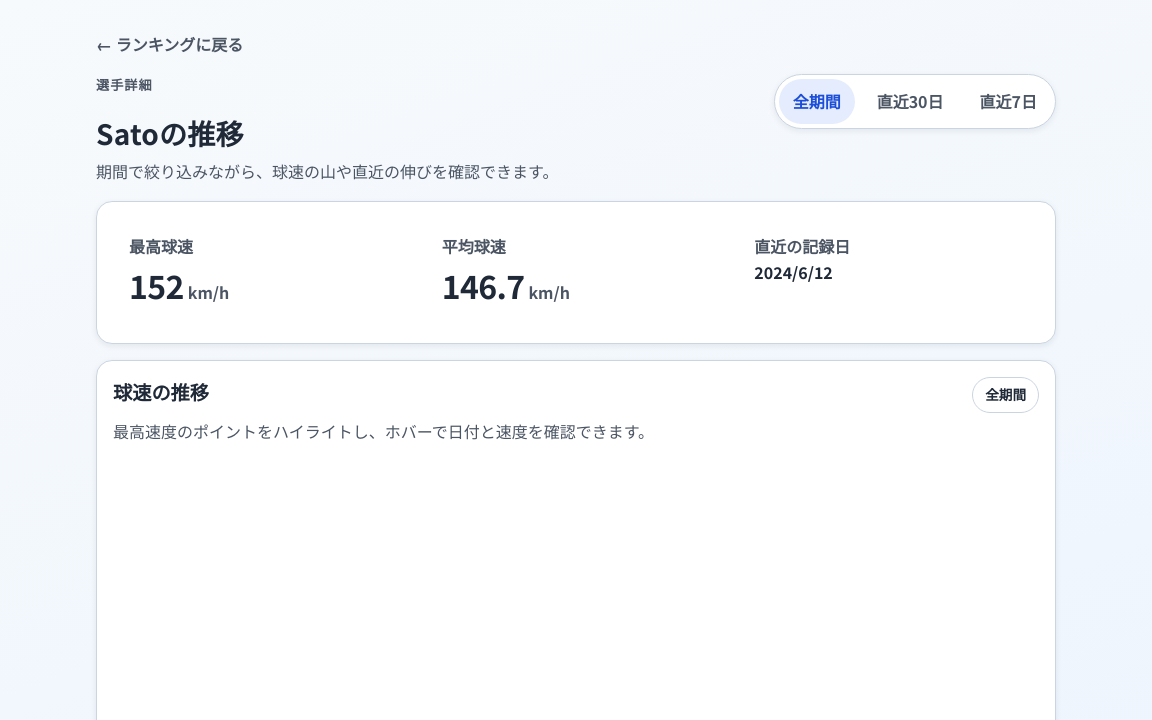
shows summary stats and filters by period
The width and height of the screenshot is (1152, 720).
Expected: the text "最高球速" is shown, [129,234,193,258]
Expected: the text "152" is shown, [129,260,184,311]
Click the button "直近7日".
click(1008, 101)  # box [966,79,1051,124]
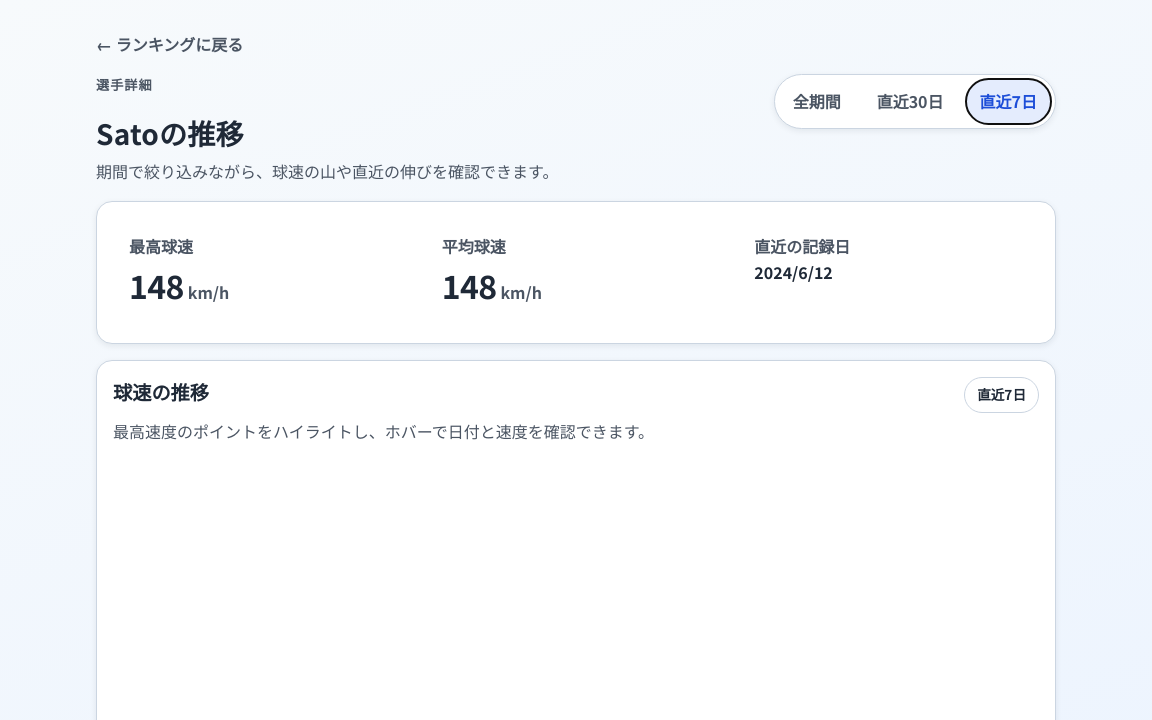
Expected: the text "直近の記録日" is shown, [754,234,850,258]
Expected: the 1st text "148" is shown, [129,260,184,311]
